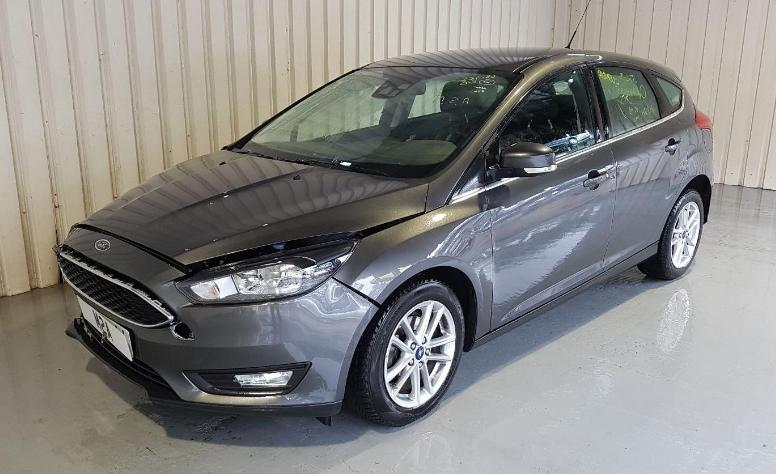Broken part: (51, 220, 383, 414), (182, 209, 426, 272)
